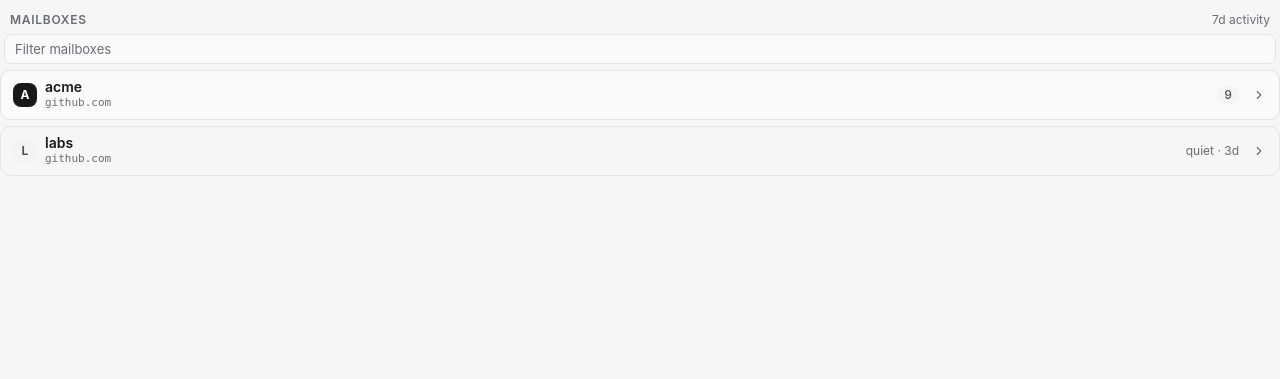
it: MailboxTree › toggles org collapse
Click the button named "Expand labs". click: (1259, 151)
box: [1245,137,1273,165]
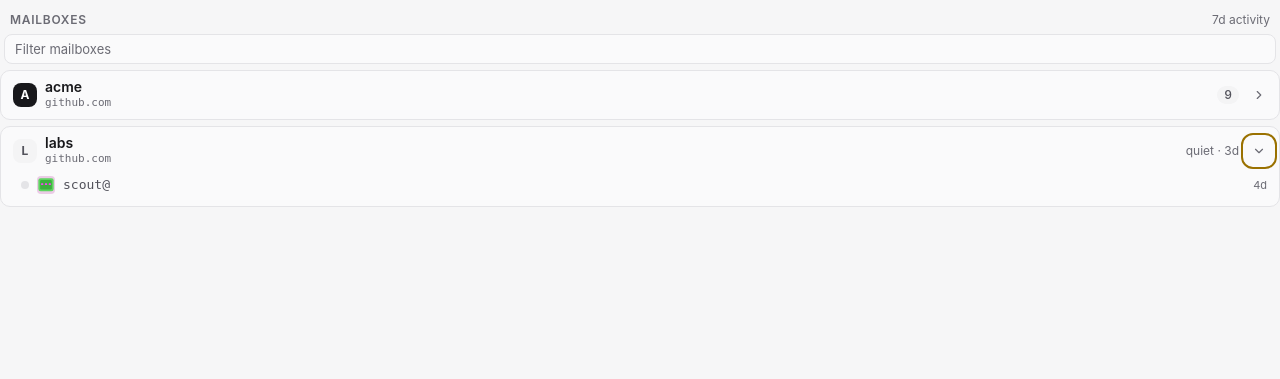
Check: the text "scout@" is shown, box [63,177,110,192]
Click the button named "Expand acme". click: (1259, 95)
box: [1245,81,1273,109]
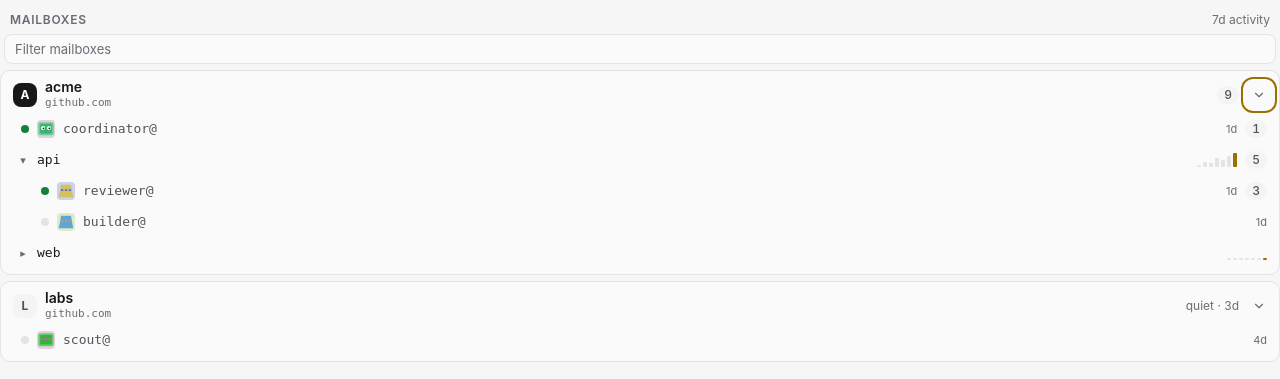
Check: the text "coordinator@" is shown, box [63,121,157,136]
Click the button named "Collapse acme". click: (1259, 95)
box: [1245,81,1273,109]
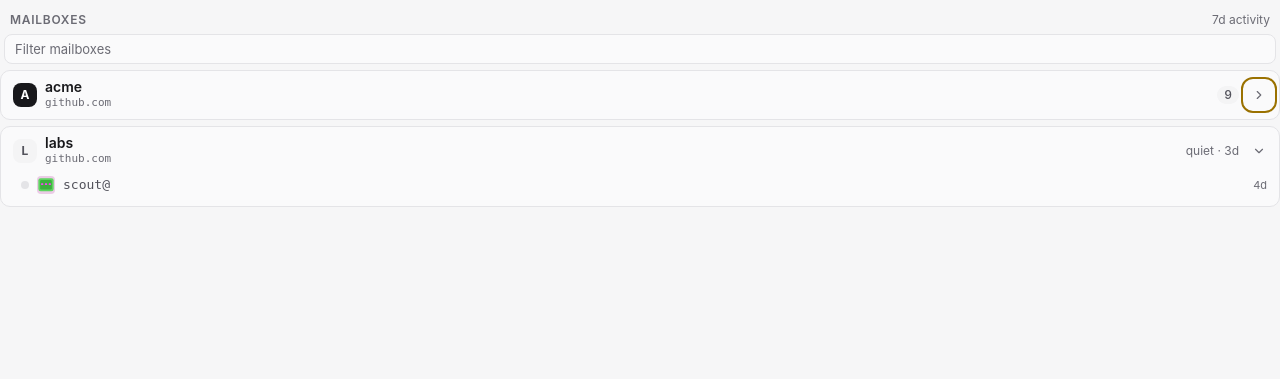
Check: the link "coordinator@" is gone
